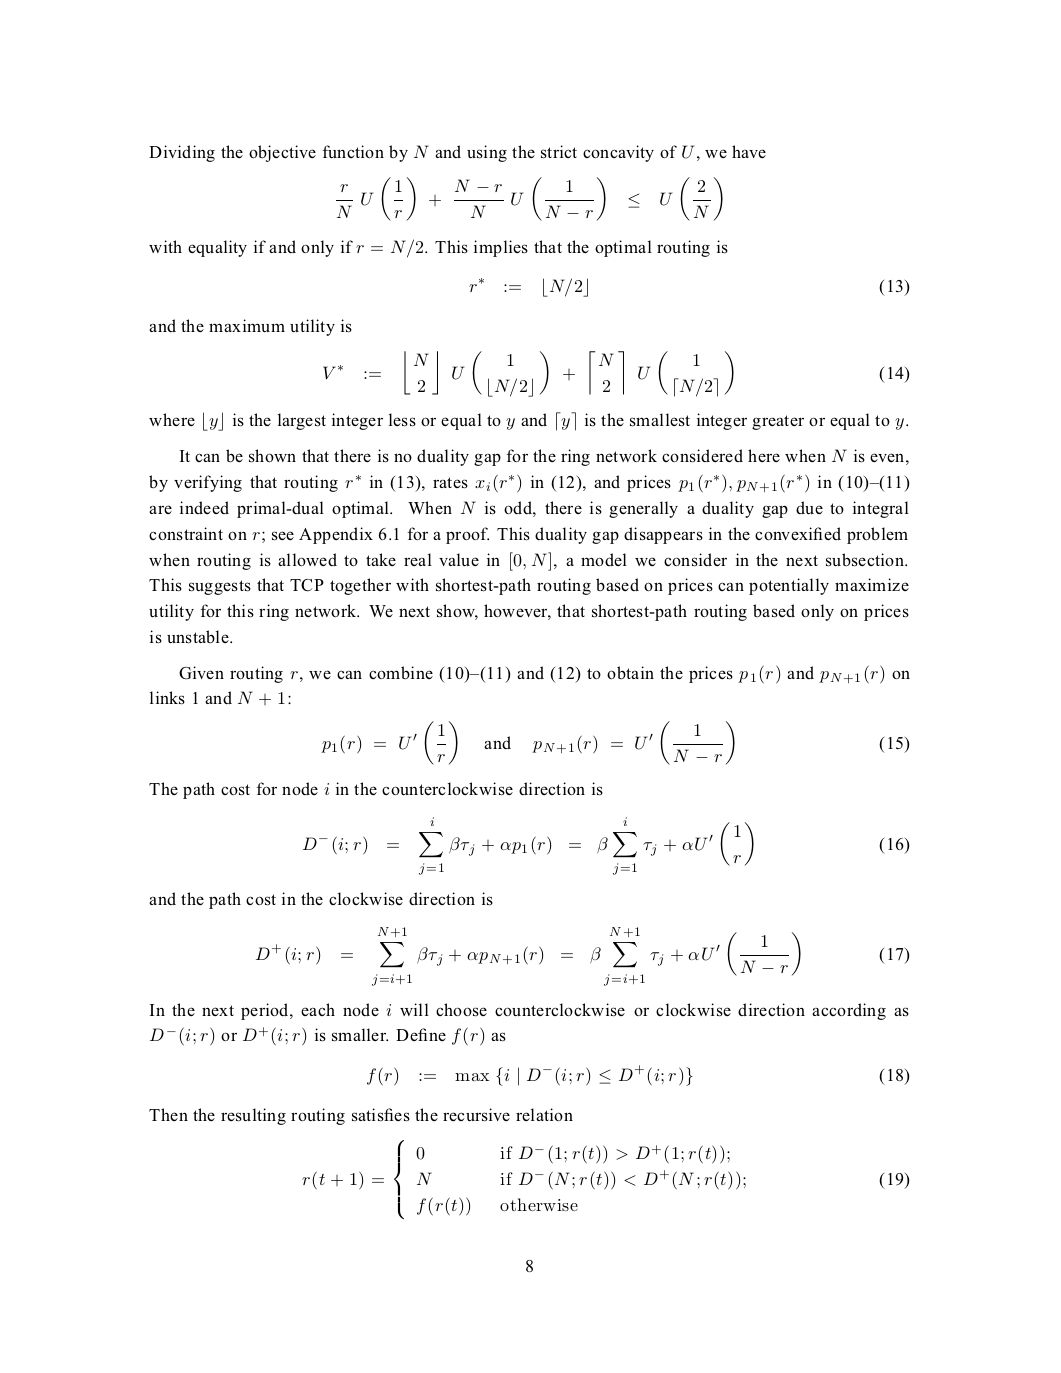formula: (302, 1139, 909, 1220), (255, 925, 909, 986), (302, 819, 909, 875), (323, 350, 909, 397), (321, 720, 909, 765), (335, 176, 722, 221), (367, 1064, 909, 1085), (469, 277, 909, 296)
